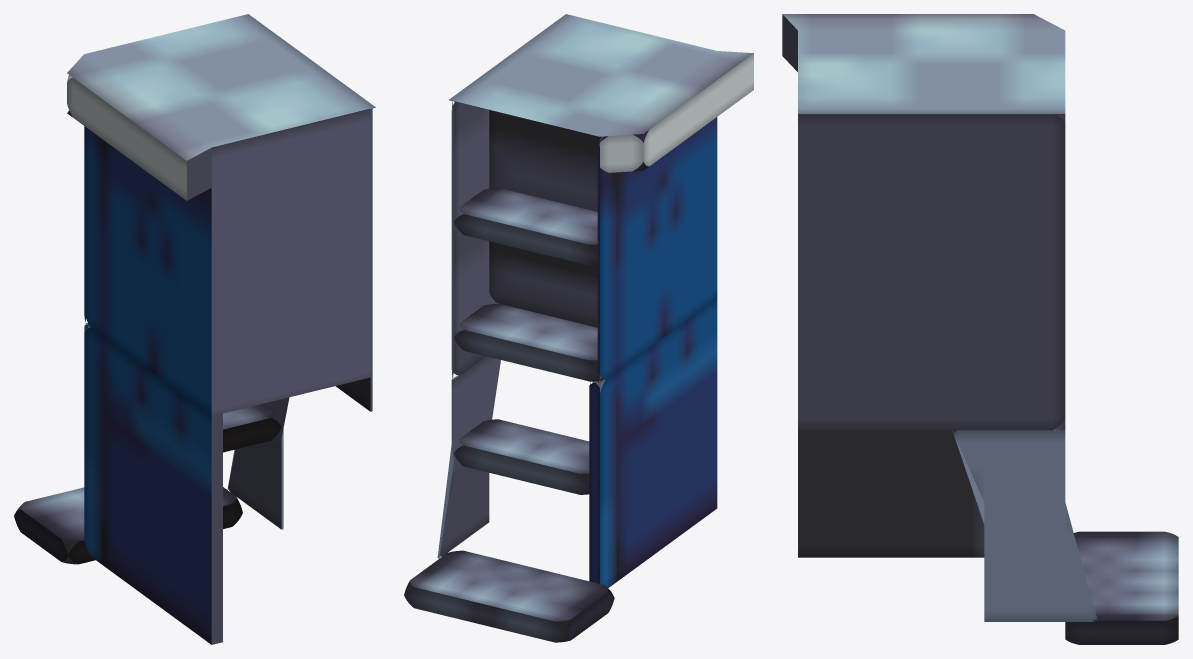
File: df5_cowcatcher_ladder_lh.obj
3 views of the same model, side by side, from view 1: azimuth 30°, elevation 25°; view 2: azimuth 150°, elevation 25°; view 3: azimuth 270°, elevation 25° (orthographic). The views are drawn at different scales.
Parts seen in each view (by area): view 1: 排障器_selection_selection_selection_selection_selection_selection_; view 2: 排障器_selection_selection_selection_selection_selection_selection_; view 3: 排障器_selection_selection_selection_selection_selection_selection_.
Boxes of the visible parts, left/top/right/bottom form: 排障器_selection_selection_selection_selection_selection_selection_: left=14, top=14, right=375, bottom=644; 排障器_selection_selection_selection_selection_selection_selection_: left=404, top=14, right=753, bottom=642; 排障器_selection_selection_selection_selection_selection_selection_: left=782, top=14, right=1178, bottom=644.
Size of the model in its own units: 0.5625 by 1.39 by 0.9371.
